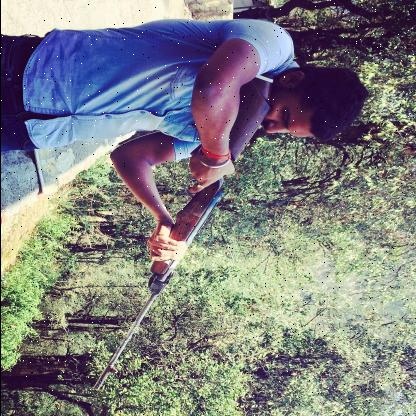rifle: (89, 69, 277, 395)
